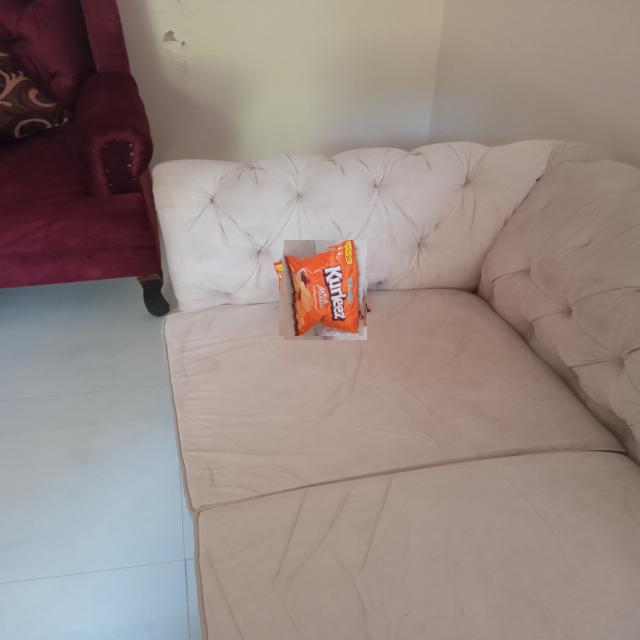Plastic: (279, 244, 371, 336)
